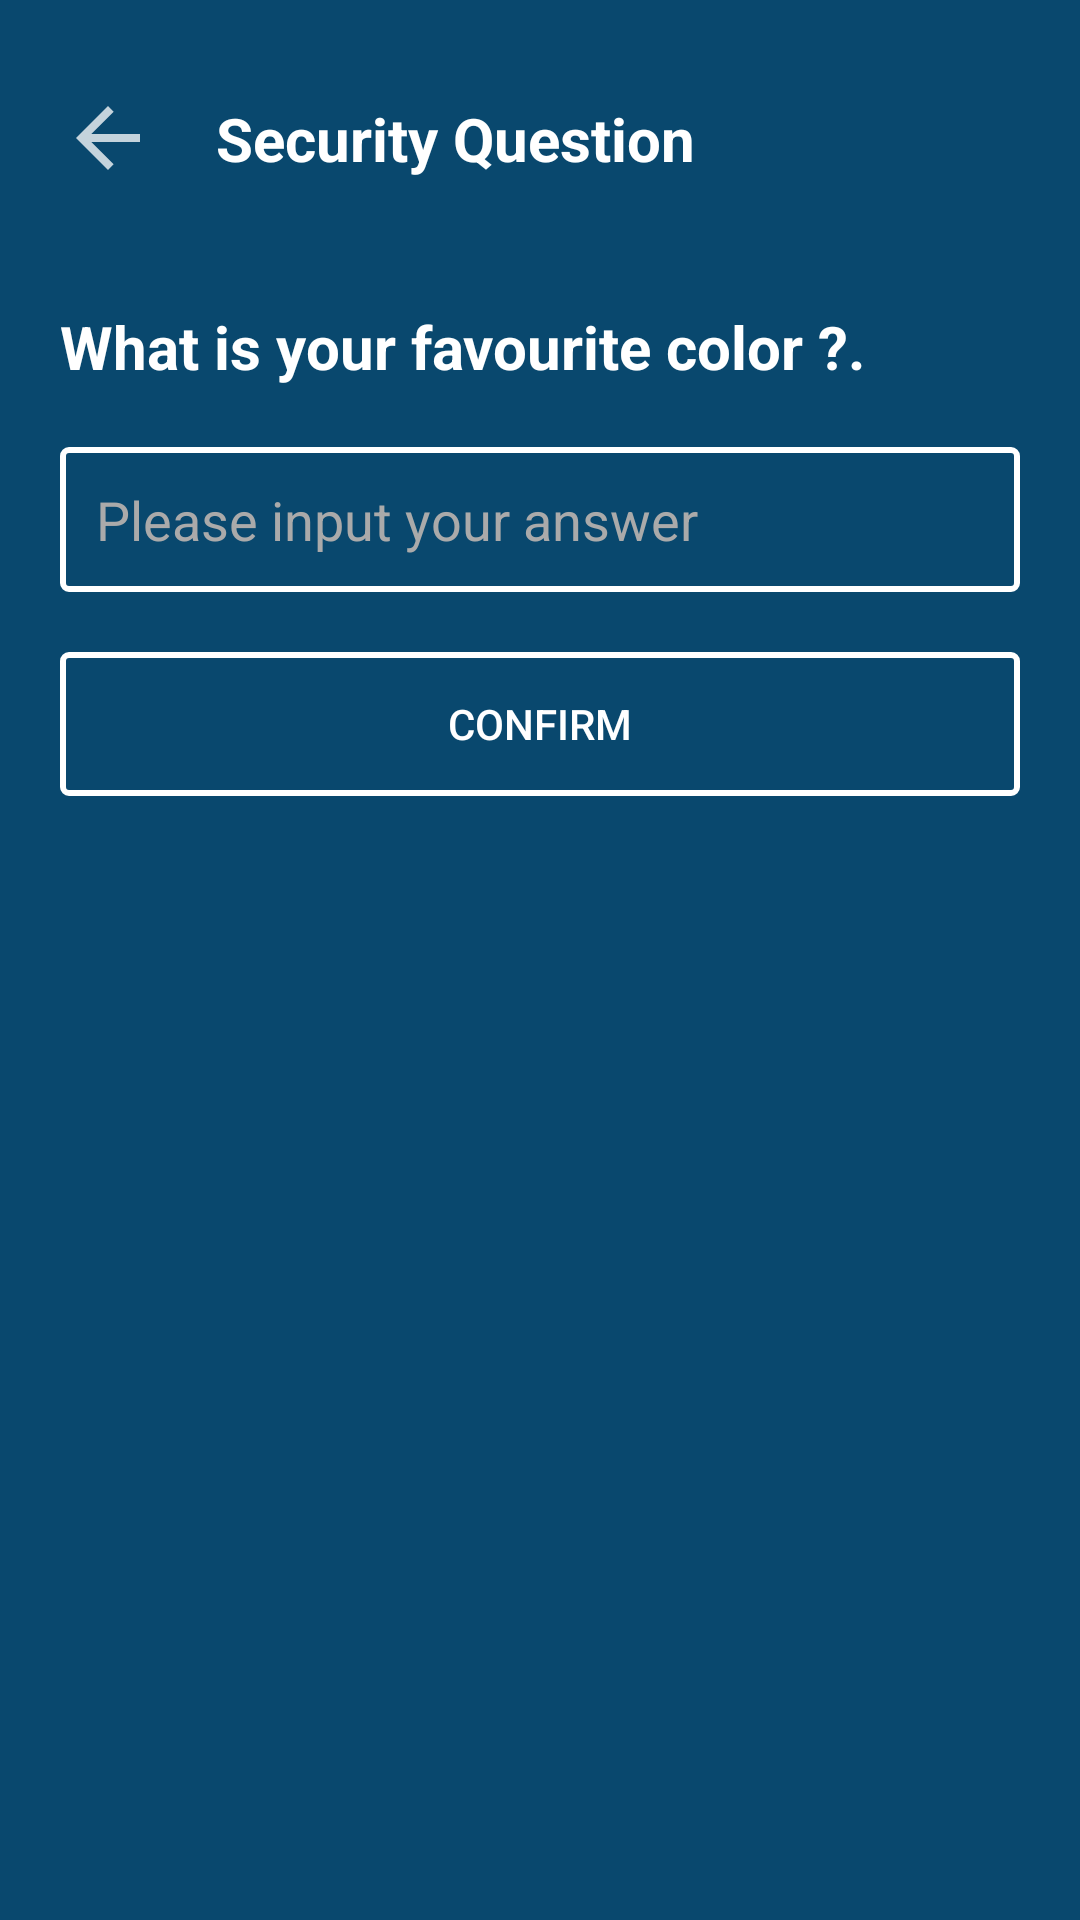

Screen size 1080×1920. Icon name, then its box in pixels as (left=x1, top=y1, right=x2, bottom=y2):
arrow back: (left=76, top=106, right=140, bottom=170)
